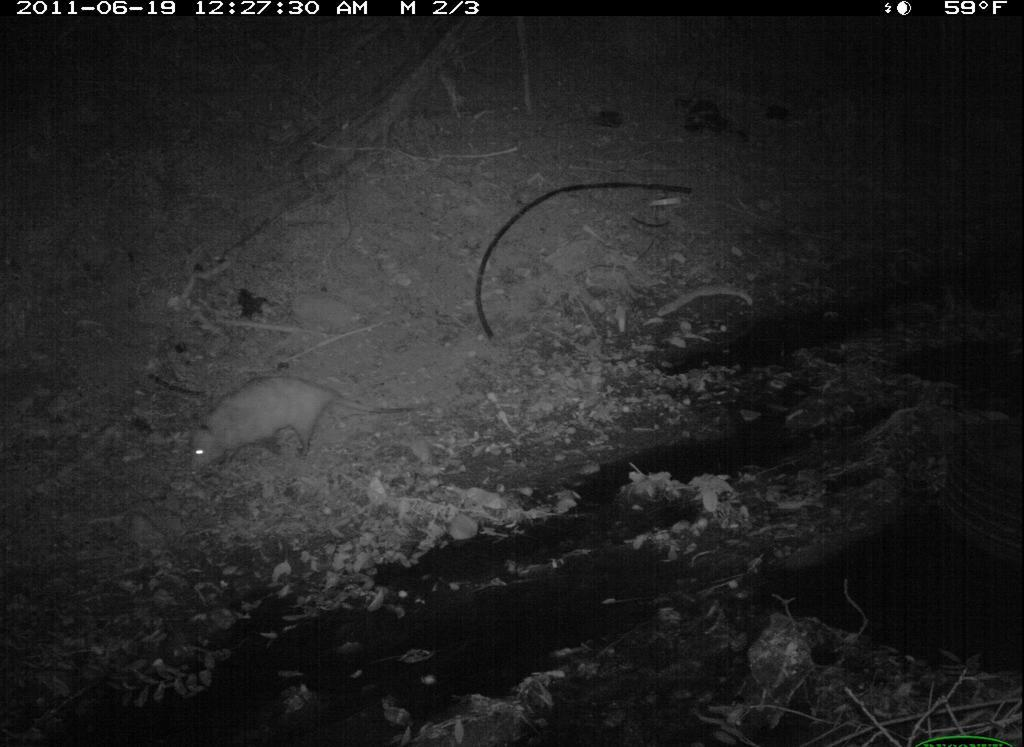opossum: (169, 365, 437, 505)
